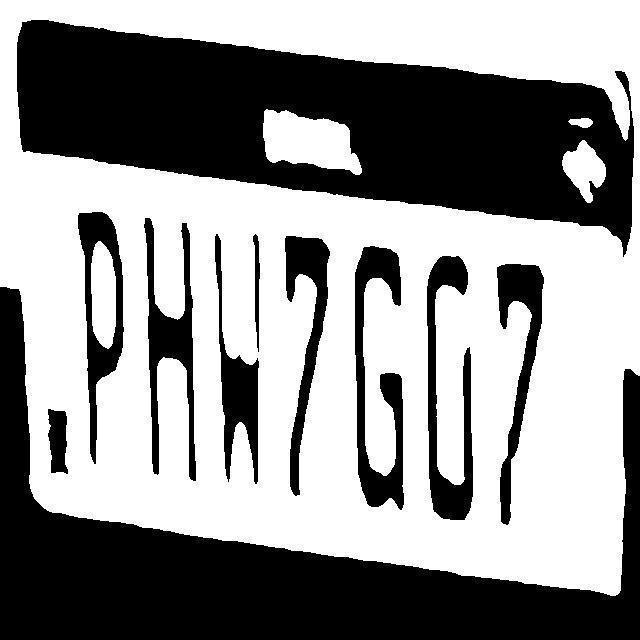0: (423, 242, 497, 536)
7: (278, 211, 354, 511), (491, 249, 566, 542)
g: (348, 226, 421, 516)
h: (140, 202, 206, 507)
p: (68, 196, 134, 490)
w: (213, 212, 276, 518)
